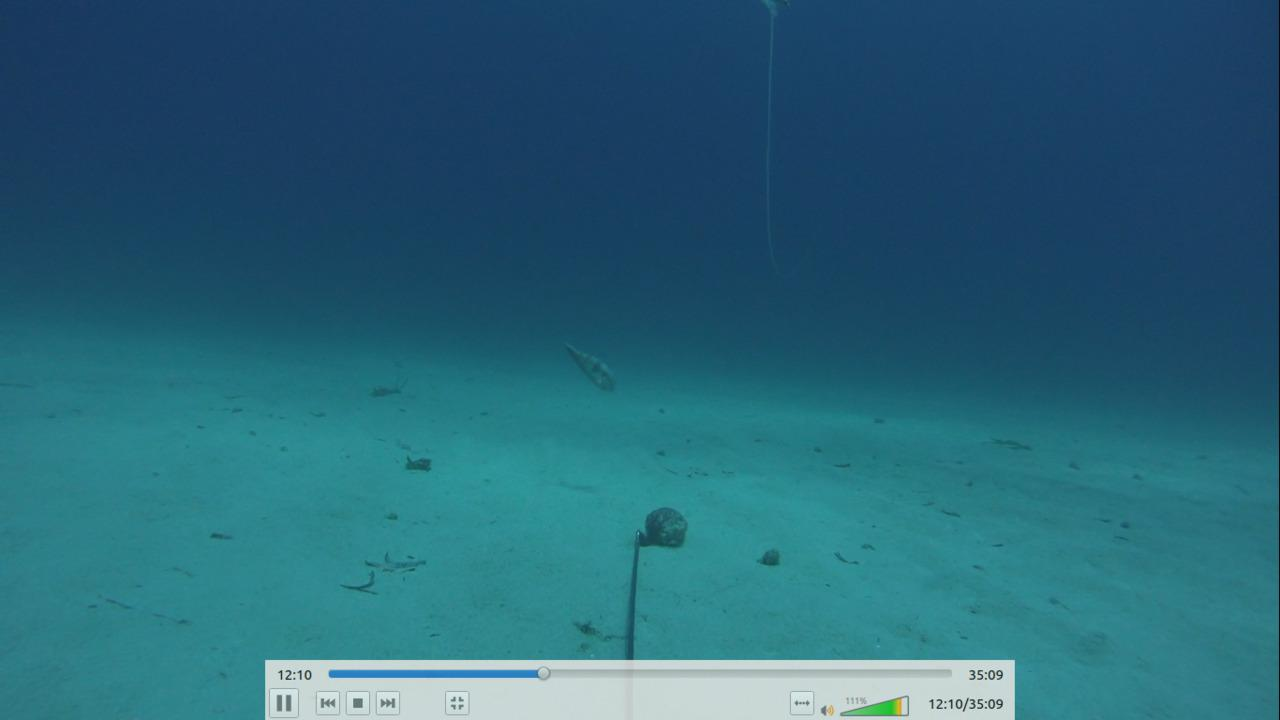raor: (563, 337, 608, 386)
